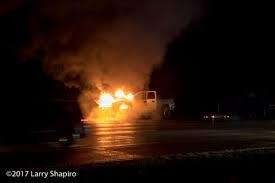fire: (93, 81, 136, 110)
